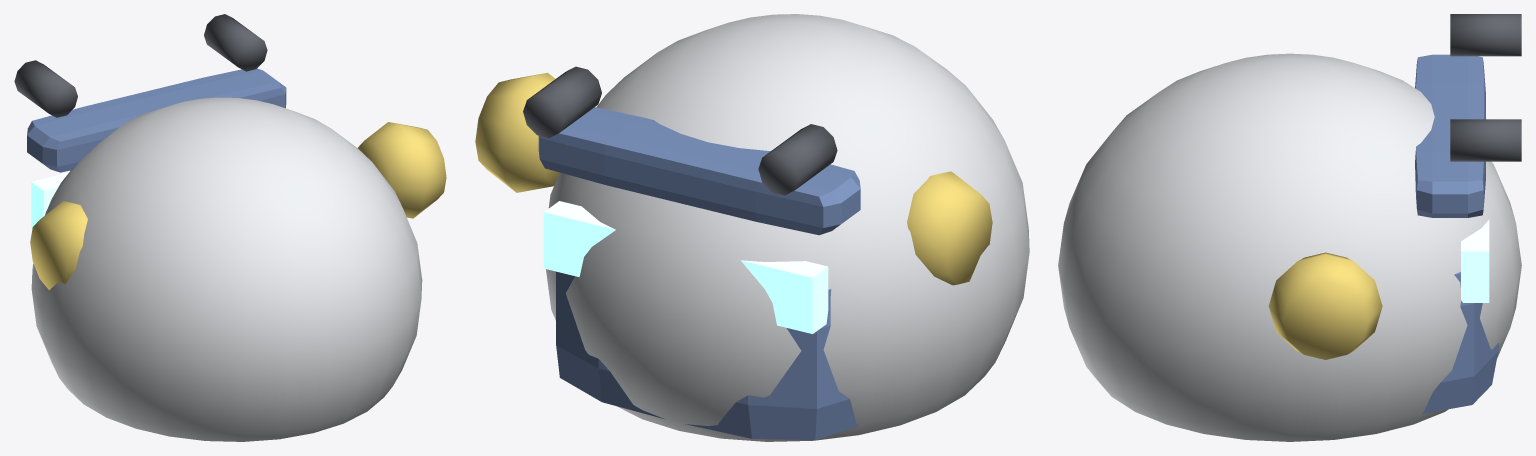
The model's file is head_heavy.glb.
3 renders of one model, left to right at view 1: azimuth 30°, elevation 25°; view 2: azimuth 150°, elevation 25°; view 3: azimuth 270°, elevation 25°, orthographic. The views are drawn at different scales.
Parts seen in each view (by area): view 1: skull, brow, sensor.001, sensor, vulcan, vulcan.001, visor; view 2: skull, brow, jaw, visor, sensor, sensor.001, vulcan.001, vulcan; view 3: skull, brow, sensor.001, jaw, vulcan, vulcan.001, visor.
Boxes of the visible parts, left/top/right/bottom form: skull: left=31, top=97, right=422, bottom=441; brow: left=27, top=68, right=286, bottom=172; sensor.001: left=358, top=122, right=446, bottom=218; sensor: left=30, top=201, right=87, bottom=289; vulcan: left=14, top=60, right=77, bottom=117; vulcan.001: left=204, top=14, right=267, bottom=71; visor: left=31, top=172, right=68, bottom=227; skull: left=546, top=14, right=1029, bottom=441; brow: left=538, top=107, right=860, bottom=235; jaw: left=556, top=271, right=858, bottom=439; visor: left=543, top=201, right=828, bottom=333; sensor: left=907, top=171, right=992, bottom=285; sensor.001: left=475, top=72, right=559, bottom=192; vulcan.001: left=523, top=66, right=601, bottom=137; vulcan: left=758, top=124, right=837, bottom=195; skull: left=1058, top=53, right=1521, bottom=441; brow: left=1415, top=54, right=1485, bottom=217; sensor.001: left=1268, top=252, right=1382, bottom=359; jaw: left=1422, top=272, right=1498, bottom=413; vulcan: left=1450, top=14, right=1521, bottom=56; vulcan.001: left=1450, top=119, right=1521, bottom=161; visor: left=1461, top=219, right=1489, bottom=302.
Size of the model in its own units: 2.41 by 1.63 by 2.21.
